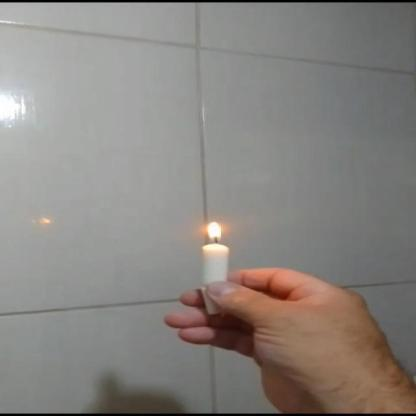fire: (203, 218, 226, 244)
